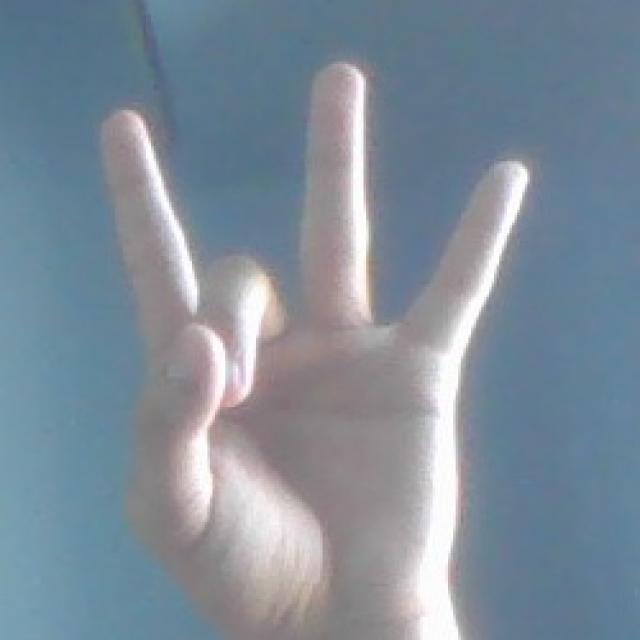Numeric-8: (99, 53, 534, 629)
